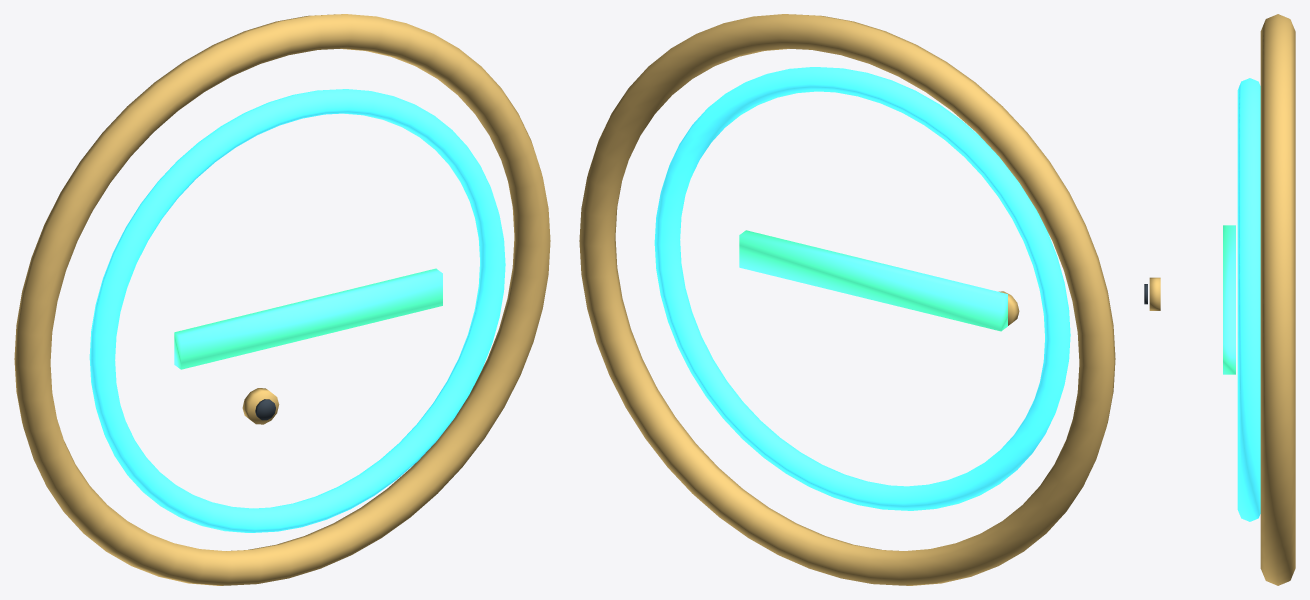
Rendered from 88_L88_AtmosphereMissionCertificationBeacon.glb.
The picture shows the model from 3 angles, left to right: view 1: azimuth 30°, elevation 25°; view 2: azimuth 150°, elevation 25°; view 3: azimuth 270°, elevation 25°; orthographic projection. The views are drawn at different scales.
Visible parts, largest first — view 1: L87_AtmosphereMissionCertific_Part_0000, L87_AtmosphereMissionCertific_Part_0001, L87_AtmosphereMissionCertific_Part_0002, L87_AtmosphereMissionCertific_Part_0003; view 2: L87_AtmosphereMissionCertific_Part_0000, L87_AtmosphereMissionCertific_Part_0001, L87_AtmosphereMissionCertific_Part_0002; view 3: L87_AtmosphereMissionCertific_Part_0000, L87_AtmosphereMissionCertific_Part_0001, L87_AtmosphereMissionCertific_Part_0002, L87_AtmosphereMissionCertific_Part_0003.
Boxes of the visible parts, x1,y1,x2,y2 form: L87_AtmosphereMissionCertific_Part_0000: (14,14,550,585); L87_AtmosphereMissionCertific_Part_0001: (89,89,505,532); L87_AtmosphereMissionCertific_Part_0002: (174,268,442,369); L87_AtmosphereMissionCertific_Part_0003: (242,388,279,424); L87_AtmosphereMissionCertific_Part_0000: (579,14,1115,585); L87_AtmosphereMissionCertific_Part_0001: (654,67,1070,510); L87_AtmosphereMissionCertific_Part_0002: (739,230,1007,331); L87_AtmosphereMissionCertific_Part_0000: (1260,14,1295,585); L87_AtmosphereMissionCertific_Part_0001: (1237,78,1260,521); L87_AtmosphereMissionCertific_Part_0002: (1223,225,1235,374); L87_AtmosphereMissionCertific_Part_0003: (1149,277,1160,310).
Bounding box in the file's own units: 2.24 × 2.24 × 0.59.
